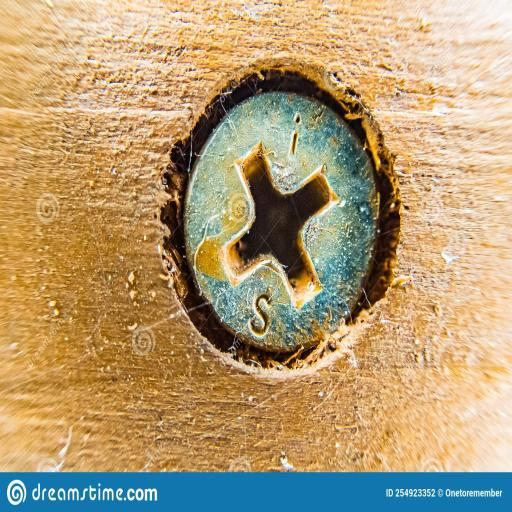Phillips: (184, 88, 382, 354)
